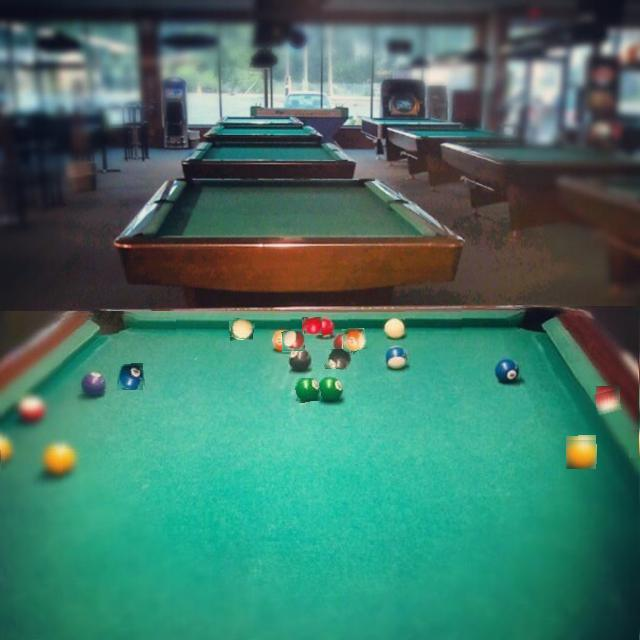Ball: (566, 440, 596, 469), (118, 363, 144, 388), (295, 377, 321, 402), (595, 390, 621, 415), (325, 349, 353, 372), (231, 346, 255, 372), (534, 367, 558, 392), (230, 318, 255, 341), (344, 329, 367, 352), (283, 332, 305, 354), (304, 318, 322, 338), (629, 431, 640, 458)
Billiard table: (0, 308, 640, 640)
